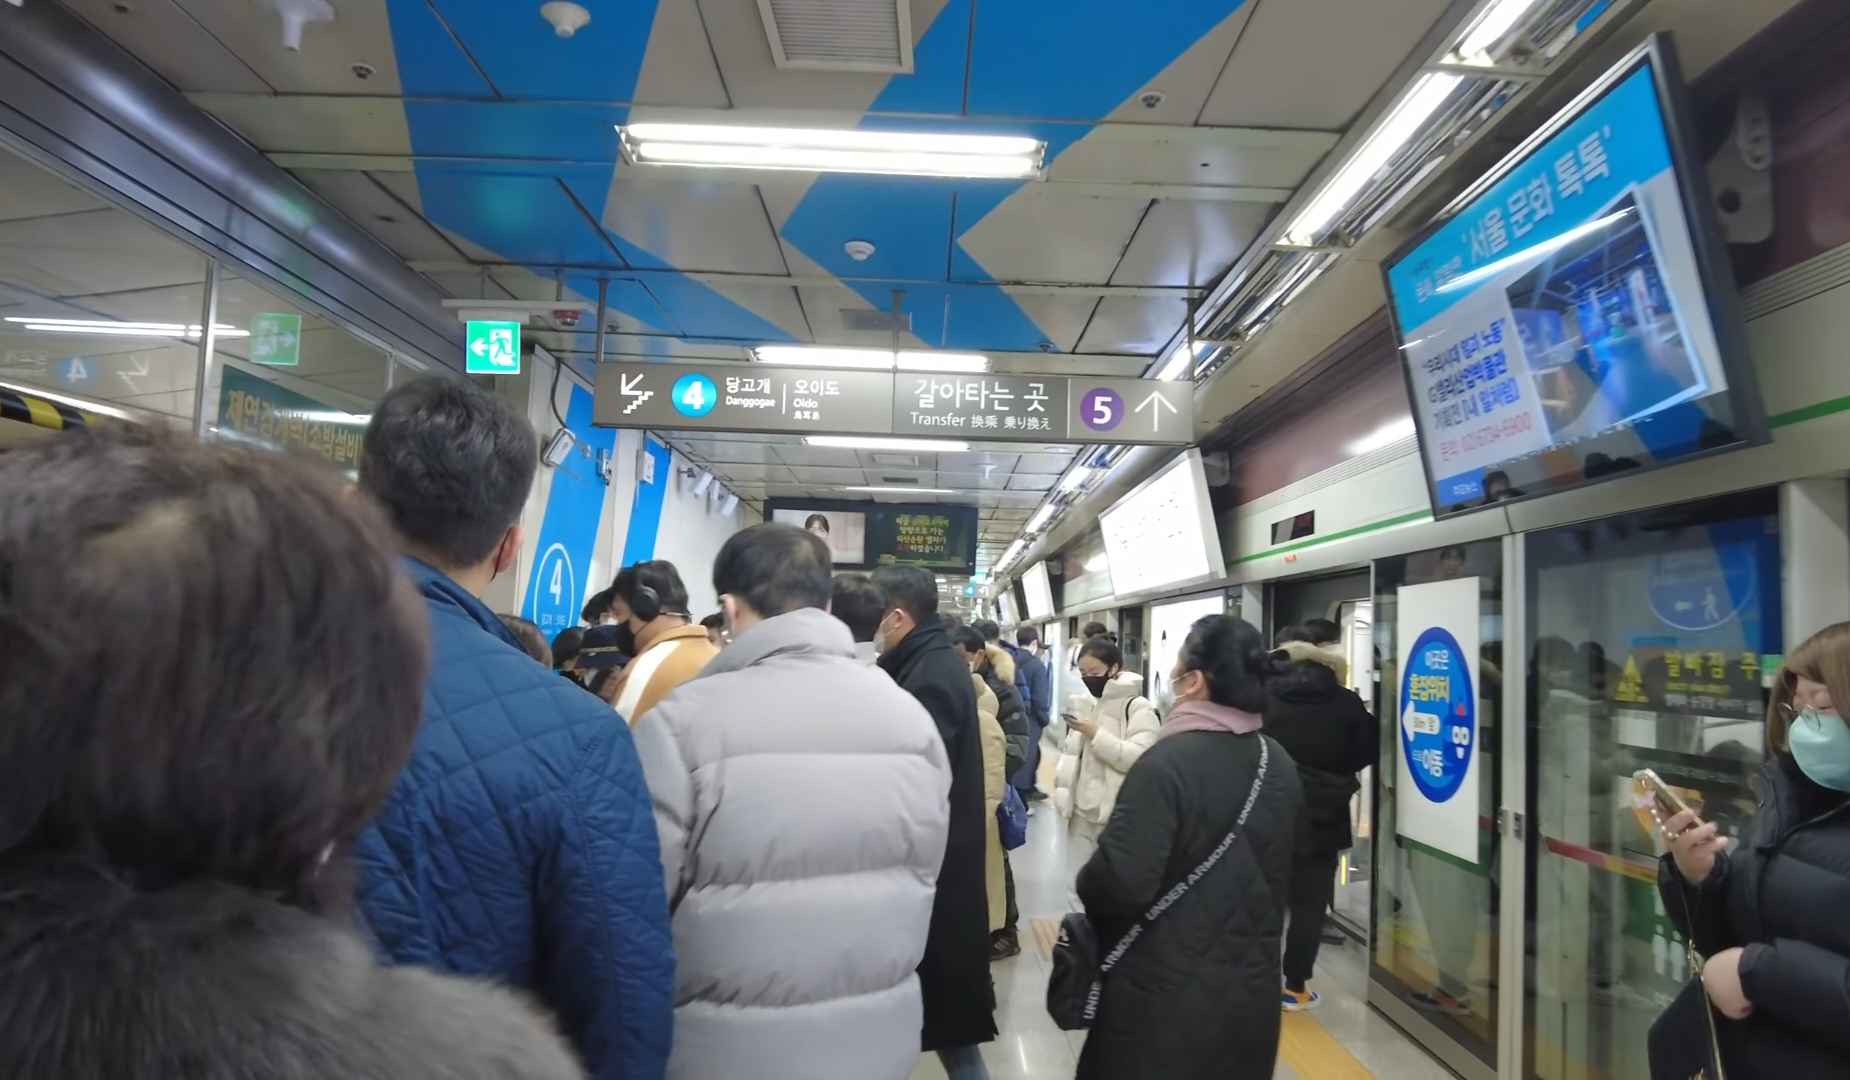signBoard: (591, 355, 1197, 453)
